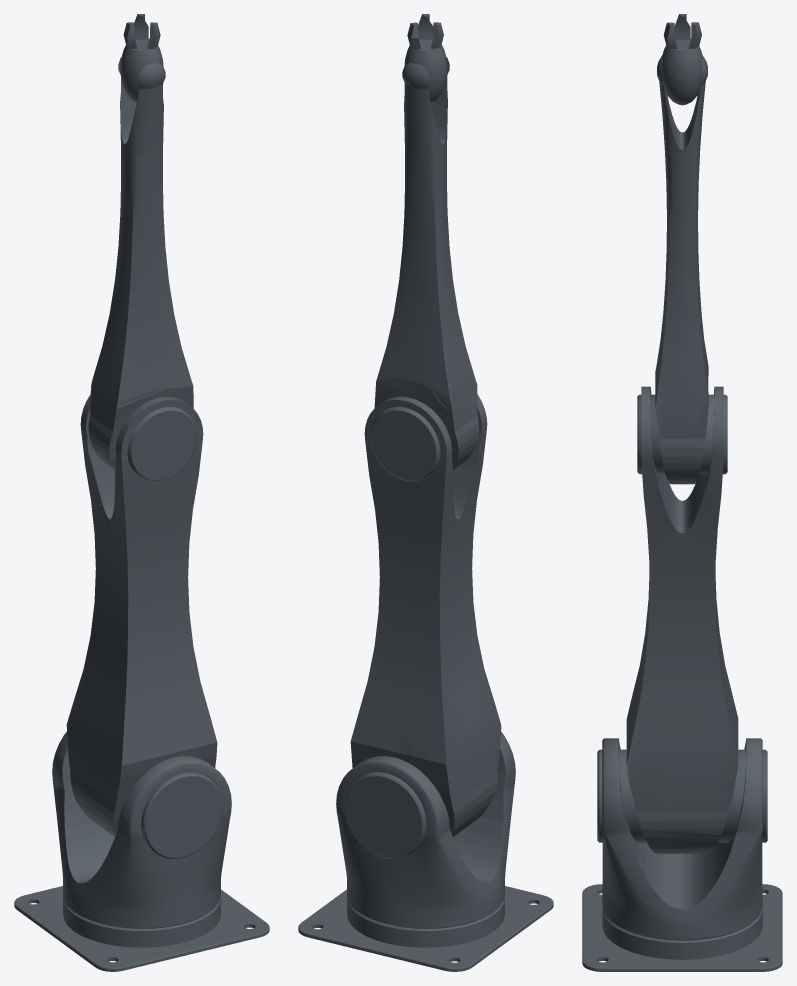
The model's file is FinalArmSelfmadeZwischenstandtest.fbx.
3 views of the same model, side by side, from view 1: azimuth 30°, elevation 25°; view 2: azimuth 150°, elevation 25°; view 3: azimuth 270°, elevation 25° (orthographic).
Visible parts, largest first — view 1: Arm1_1, Arm2_1, Loft, platte_1, kopfteil_1, Kugel_1; view 2: Arm1_1, Arm2_1, Loft, platte_1, kopfteil_1, Kugel_1; view 3: Arm1_1, Loft, Arm2_1, platte_1, Kugel_1, kopfteil_1.
Boxes of the visible parts, x1,y1,x2,y2 form: Arm1_1: (66, 394, 222, 858); Arm2_1: (88, 146, 197, 481); Loft: (52, 731, 231, 928); platte_1: (14, 886, 269, 971); kopfteil_1: (118, 57, 165, 154); Kugel_1: (120, 38, 163, 102); Arm1_1: (345, 394, 501, 858); Arm2_1: (370, 146, 478, 481); Loft: (336, 731, 515, 928); platte_1: (298, 886, 553, 971); kopfteil_1: (402, 57, 449, 154); Kugel_1: (404, 39, 447, 102); Arm1_1: (597, 386, 767, 853); Loft: (602, 738, 762, 940); Arm2_1: (637, 149, 727, 484); platte_1: (582, 884, 782, 971); Kugel_1: (662, 40, 702, 105); kopfteil_1: (657, 55, 707, 156).
Size of the model in its own units: 100 by 501 by 100.
Materials: 9 (9 with a texture image).
